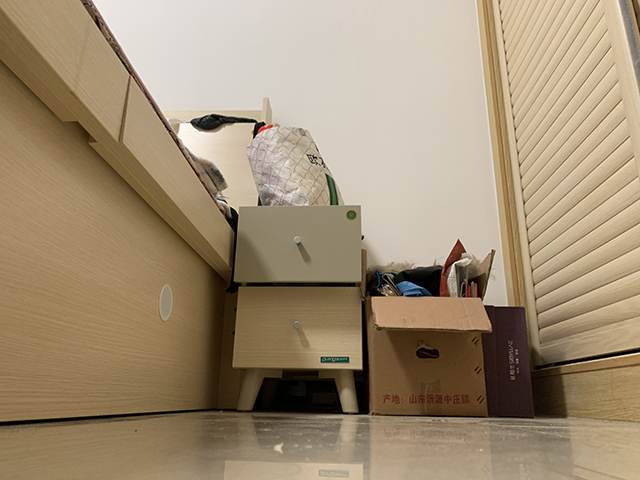bed: (1, 1, 275, 425)
cabinet: (475, 1, 640, 423), (229, 203, 368, 416)
